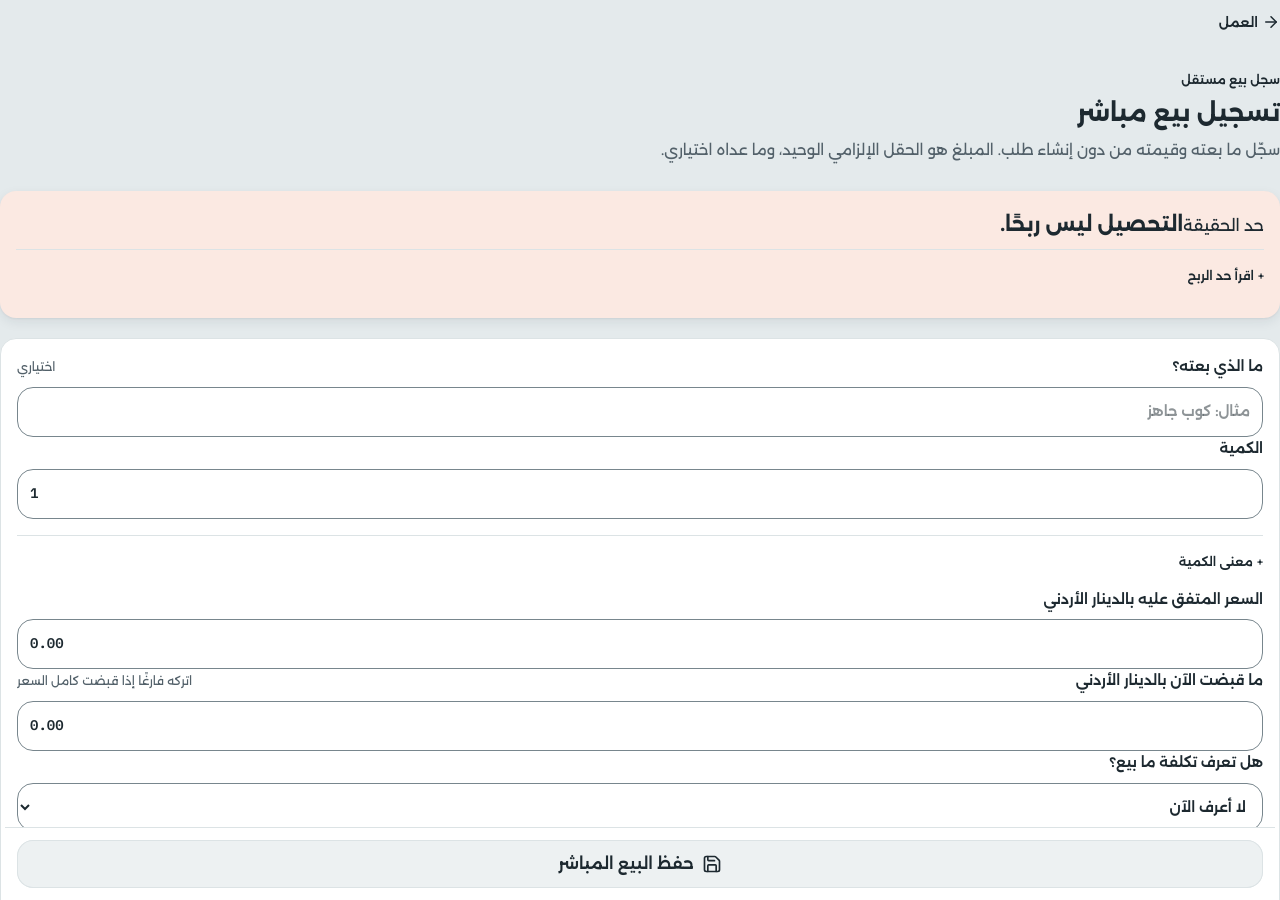
DirectSaleEditor › shows the attribution-failure partial success on the done screen and never re-records the sale
Expected: the heading "تسجيل بيع مباشر" is shown, [1077,98,1279,127]
Replace the text in the field labelled "السعر المتفق عليه" with "12.00": (640, 644) [17,620,1263,669]
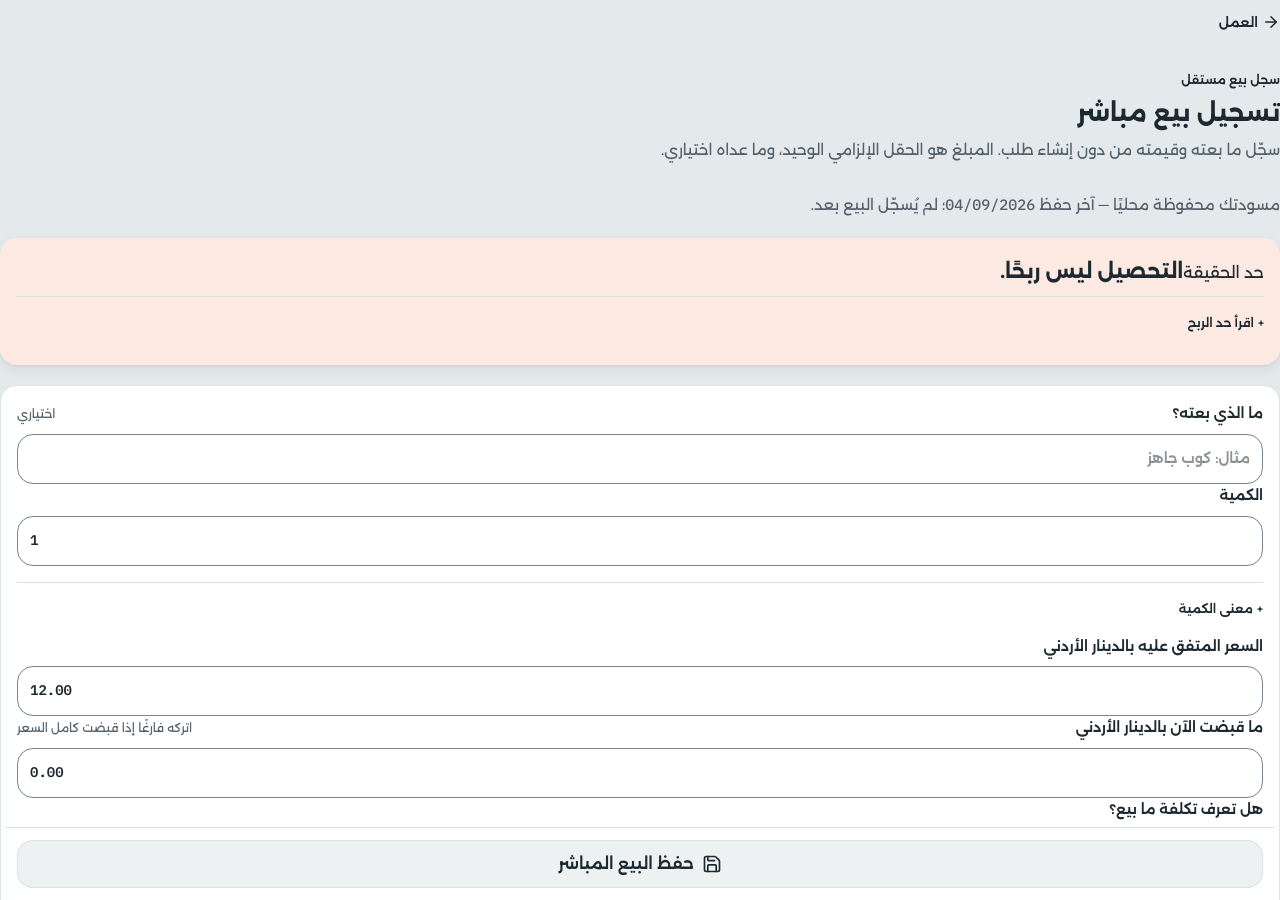
Click the button "حفظ البيع المباشر": click(640, 864) [17,840,1263,888]
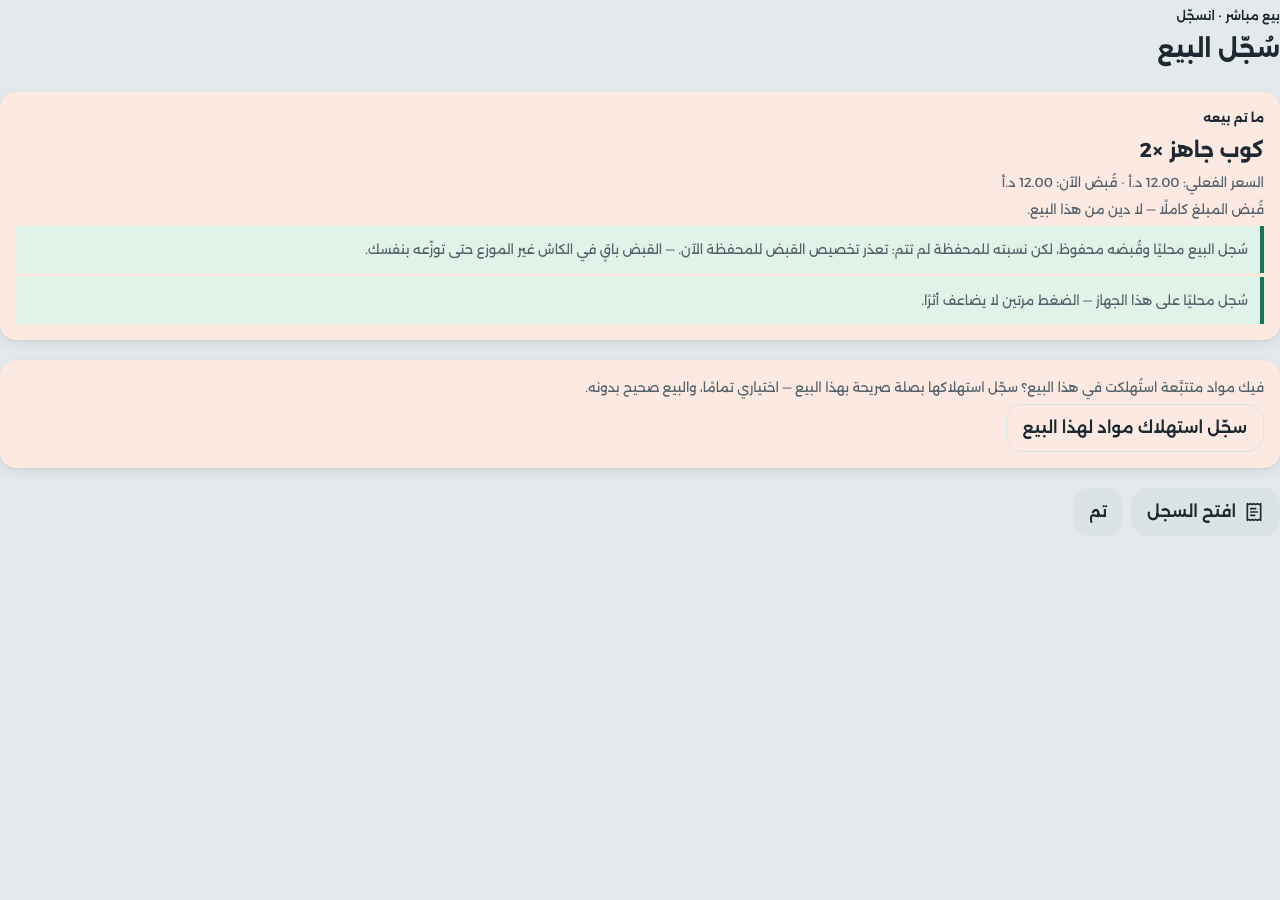
Result: the heading "سُجّل البيع" is shown at [1157,34,1279,63]
Result: the text "نسبته للمحفظة لم تتم" shows "تعذر تخصيص القبض للمحفظة الآن." at [365,241,1248,257]
Result: the button "حفظ البيع المباشر" is gone
